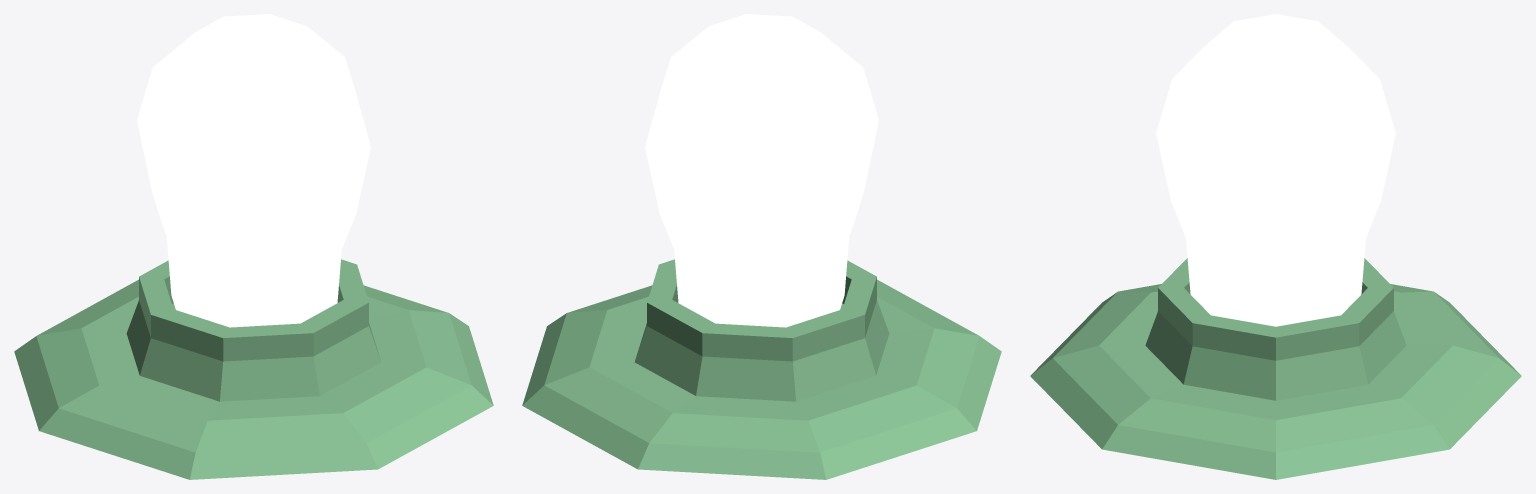
The model's file is computer desk.glb.
3 views of the same model, side by side, from view 1: azimuth 30°, elevation 25°; view 2: azimuth 150°, elevation 25°; view 3: azimuth 270°, elevation 25° (orthographic).
Visible parts, largest first — view 1: light socket, lightbulb; view 2: light socket, lightbulb; view 3: light socket, lightbulb.
Part boxes in pixels (x1,y1,x2,y2): light socket: (14, 259, 493, 479); lightbulb: (137, 14, 370, 327); light socket: (522, 259, 1001, 479); lightbulb: (645, 14, 878, 327); light socket: (1030, 258, 1521, 479); lightbulb: (1156, 14, 1395, 326).
Size of the model in its own units: 0.82 by 0.6462 by 0.82.
2 materials, 1 textured.
